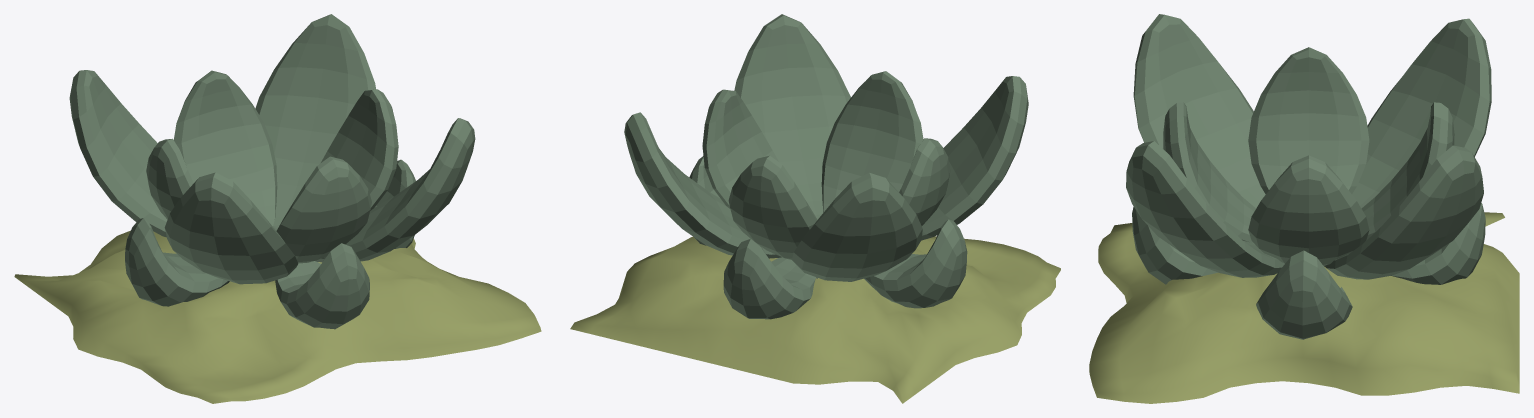
The model's file is CannonBase.fbx.
The picture shows the model from 3 angles, left to right: view 1: azimuth 30°, elevation 25°; view 2: azimuth 150°, elevation 25°; view 3: azimuth 270°, elevation 25°; orthographic projection. The views are drawn at different scales.
Parts seen in each view (by area): view 1: Leave, 平面.002; view 2: Leave, 平面.002; view 3: Leave, 平面.002.
Boxes of the visible parts, box(x1,y1,x2,y2) form: Leave: box(69, 14, 475, 329); 平面.002: box(14, 230, 541, 403); Leave: box(624, 14, 1028, 319); 平面.002: box(570, 236, 1060, 403); Leave: box(1126, 14, 1491, 339); 平面.002: box(1089, 212, 1519, 403).
Size of the model in its own units: 900 by 479 by 817.
